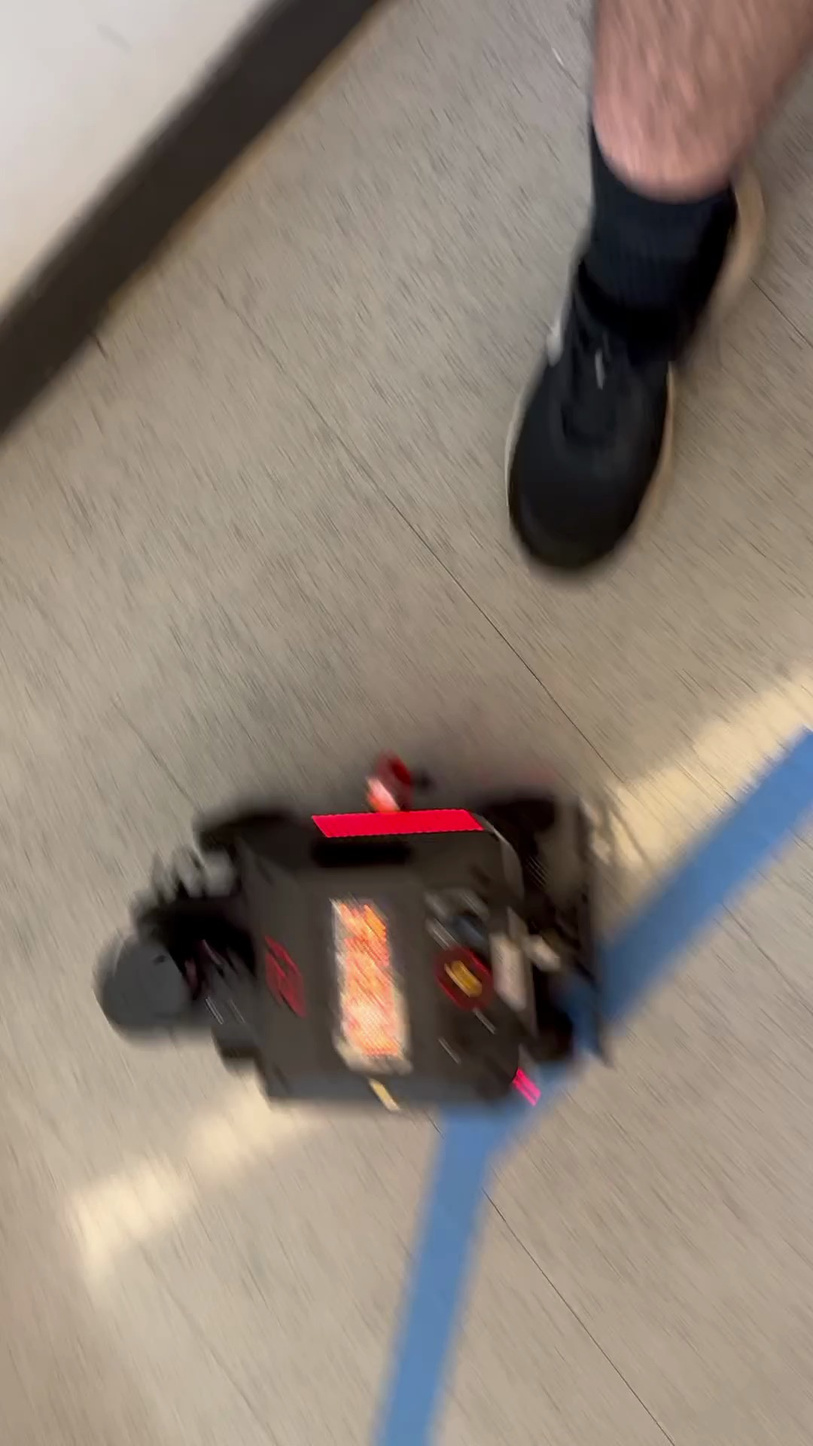racecar: (97, 766, 606, 1117)
